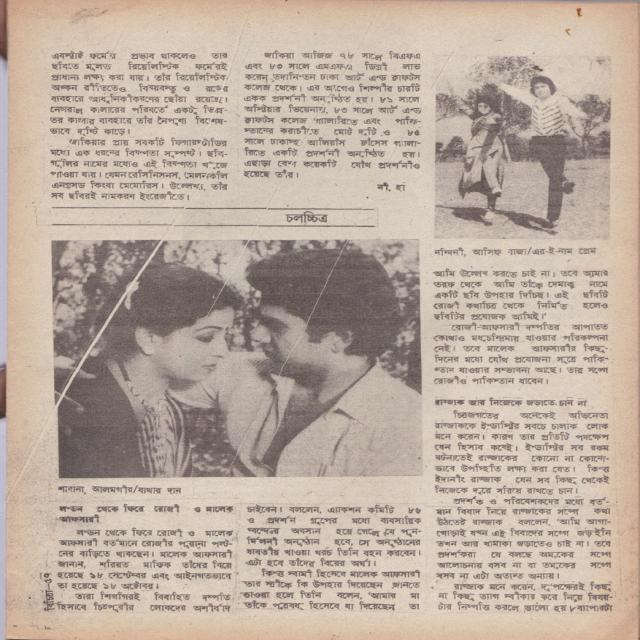caption: (433, 246, 597, 256), (58, 485, 180, 495)
image: (52, 240, 423, 479), (435, 56, 610, 239)
page number: (41, 572, 52, 586)
paragraph: (240, 50, 424, 179), (49, 51, 229, 136), (433, 410, 610, 495), (436, 497, 615, 581), (49, 136, 227, 202), (433, 321, 611, 386), (244, 504, 422, 568), (55, 528, 234, 591), (432, 269, 610, 321), (239, 569, 420, 611), (437, 581, 615, 613), (58, 591, 233, 613)
text: (377, 181, 406, 192), (42, 590, 55, 611)
title: (57, 502, 235, 525), (435, 398, 588, 408), (286, 210, 328, 224)
